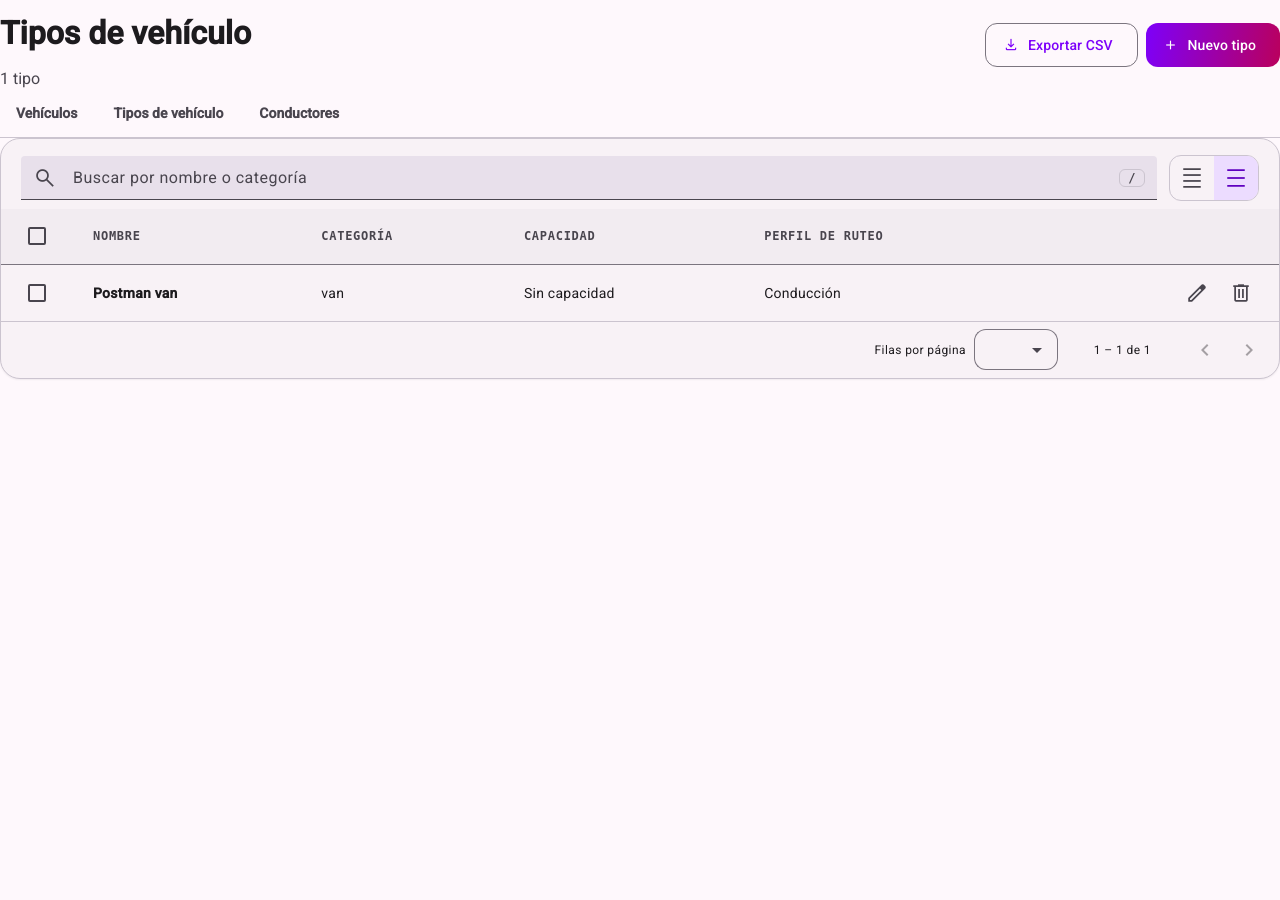
Scenario: ResourceTypeListComponent › borrado › al confirmar borra, avisa y recarga la misma página
Click the button named "Eliminar tipo Postman van". click: (1241, 293)
box: [1219,271,1263,315]
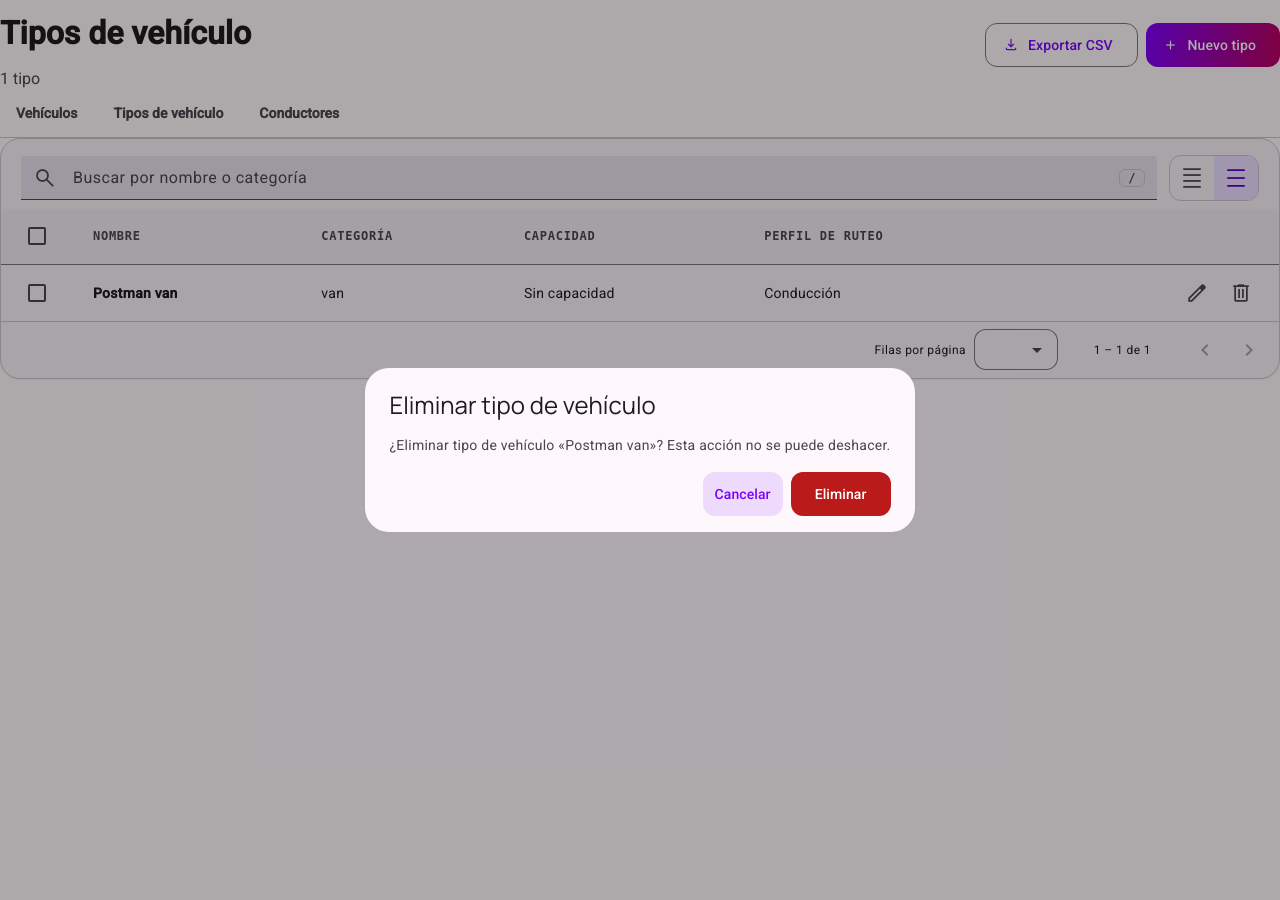
Click the button "Eliminar". click: (841, 494)
box: [791,472,891,516]
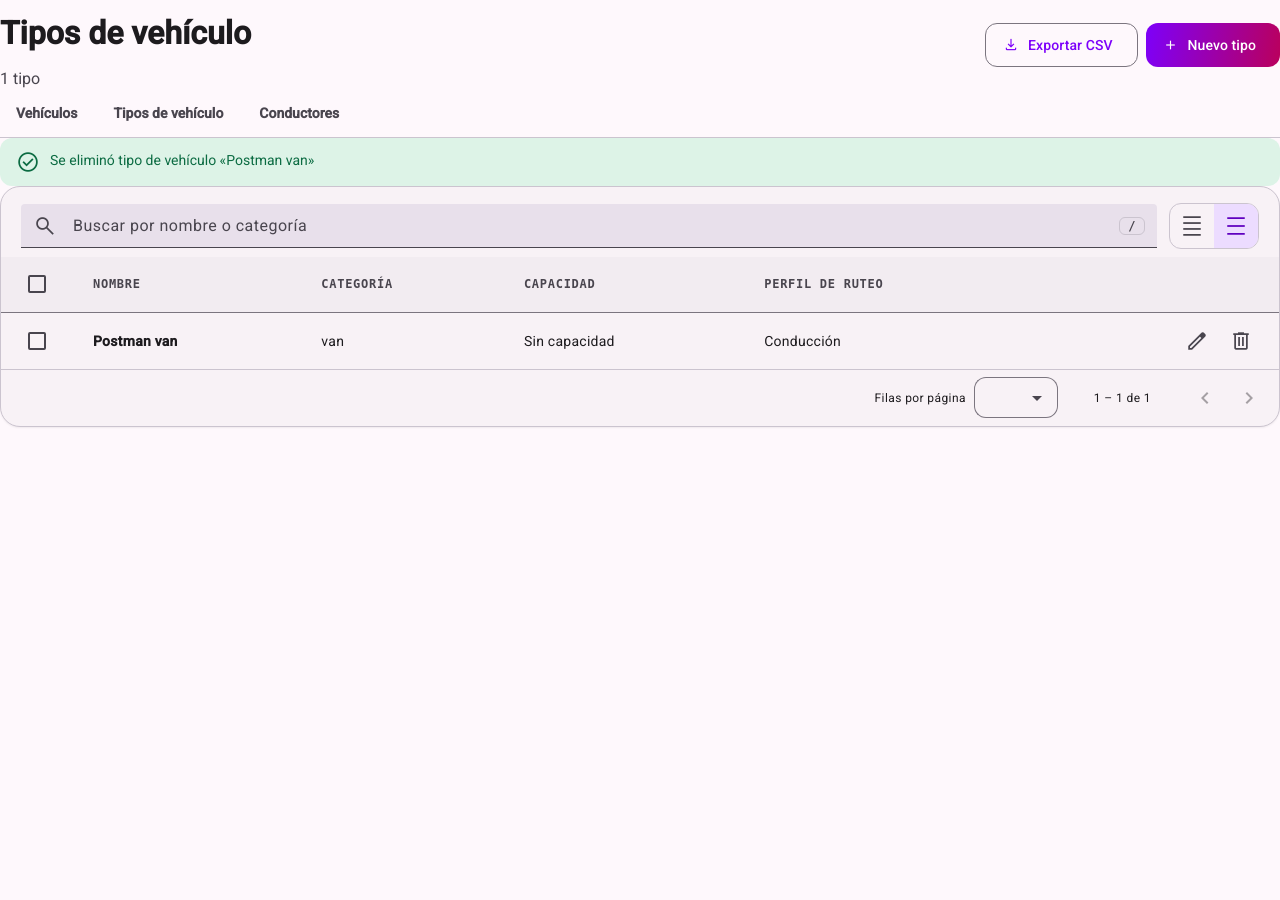
Expected: the text "Se eliminó tipo de vehículo «Postman van»" is shown, [50,150,314,170]
